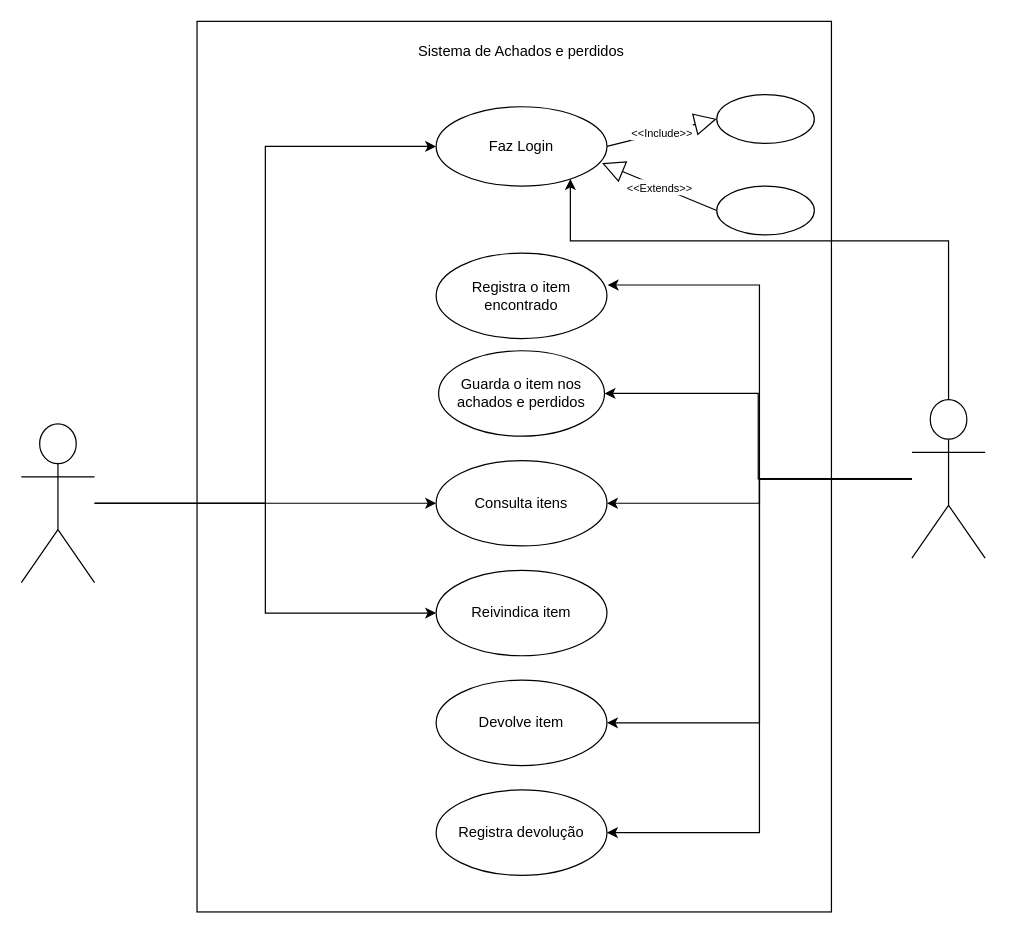
The diagram is 1015 pixels wide and 933 high, and some of its shapes have lost their labels. The shapes that lost their labels are listed below. From the top down, each one's centre as x and y in pixels, then its label:
At (765,118): "Verificar senha".
At (765,210): "Exibe erro de login".
At (948,478): "Administrador".
At (57,503): "Morador".
